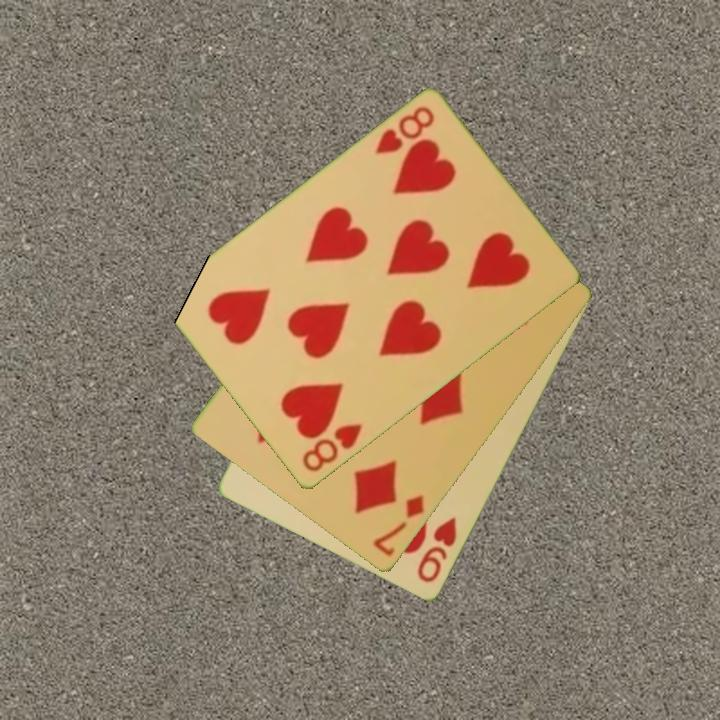7d: (369, 491, 428, 560)
8h: (298, 420, 366, 476), (371, 103, 438, 158)
9h: (413, 513, 460, 586)
